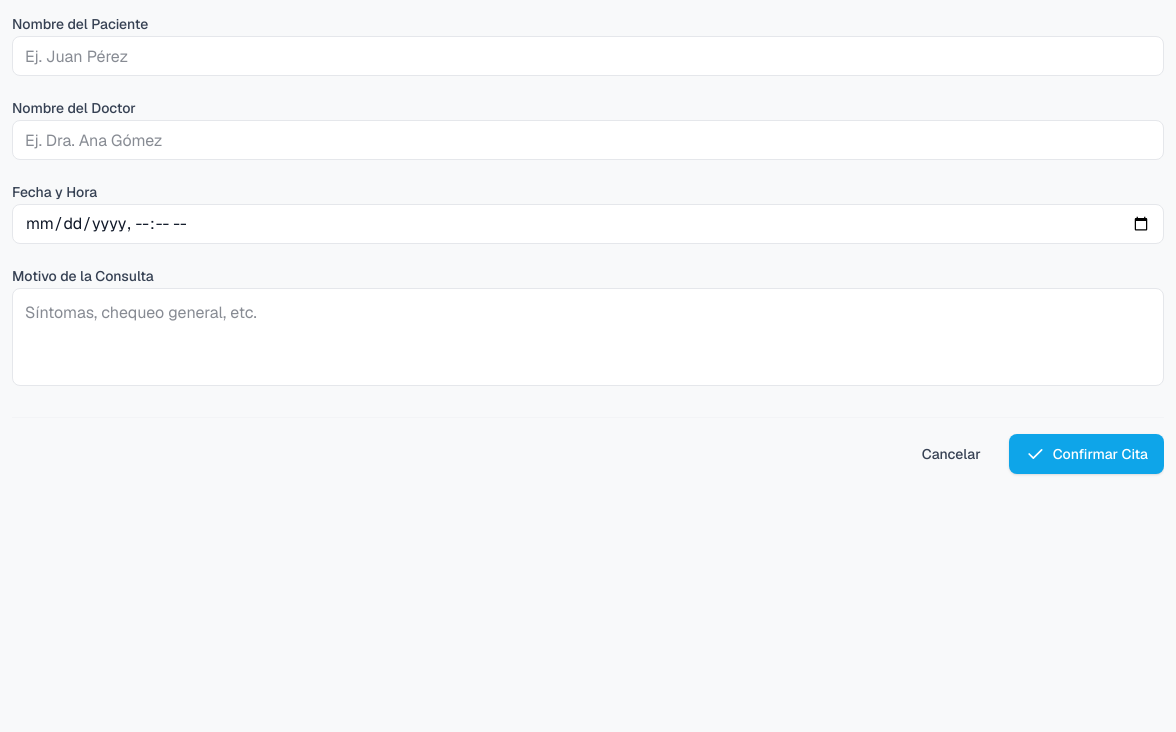
Scenario: CreateAppointmentForm › muestra errores por campo cuando backend responde validation error
This screenshot has width=1176, height=732.
Type "Paciente con error" into the field labelled "Nombre del Paciente" at (588,56), box [12,36,1164,76]
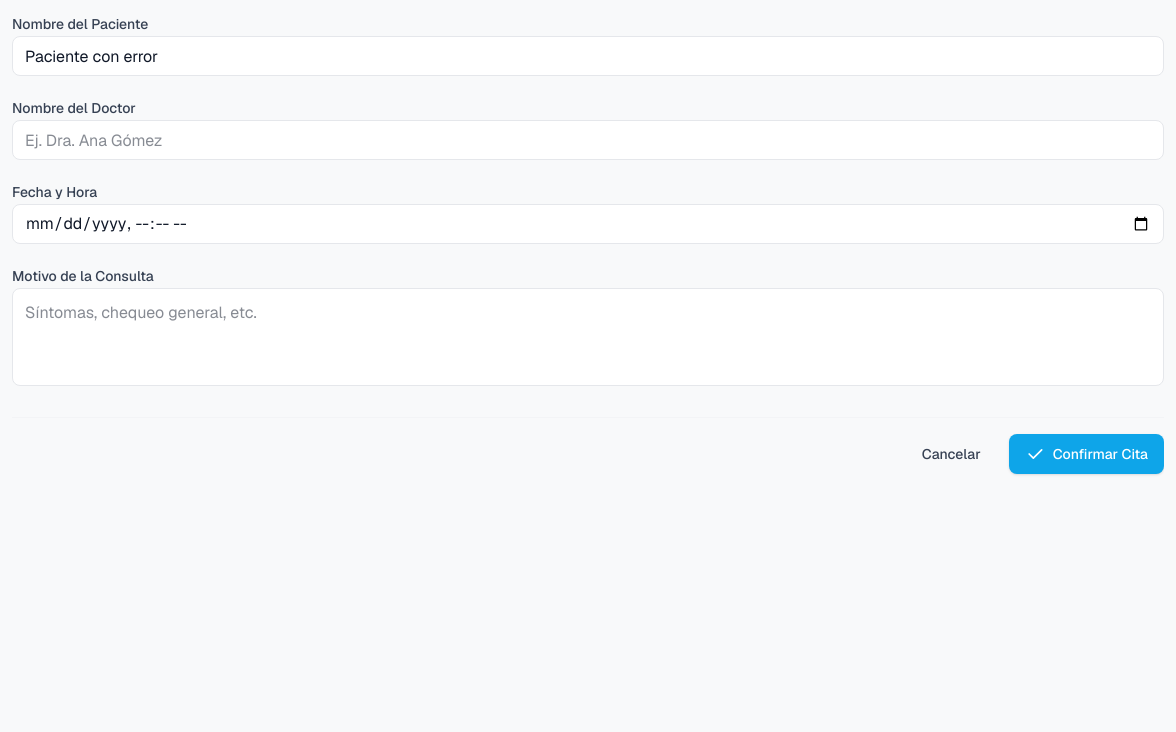
Type "Carlos Ruiz" into the field labelled "Nombre del Doctor" at (588,140), box [12,120,1164,160]
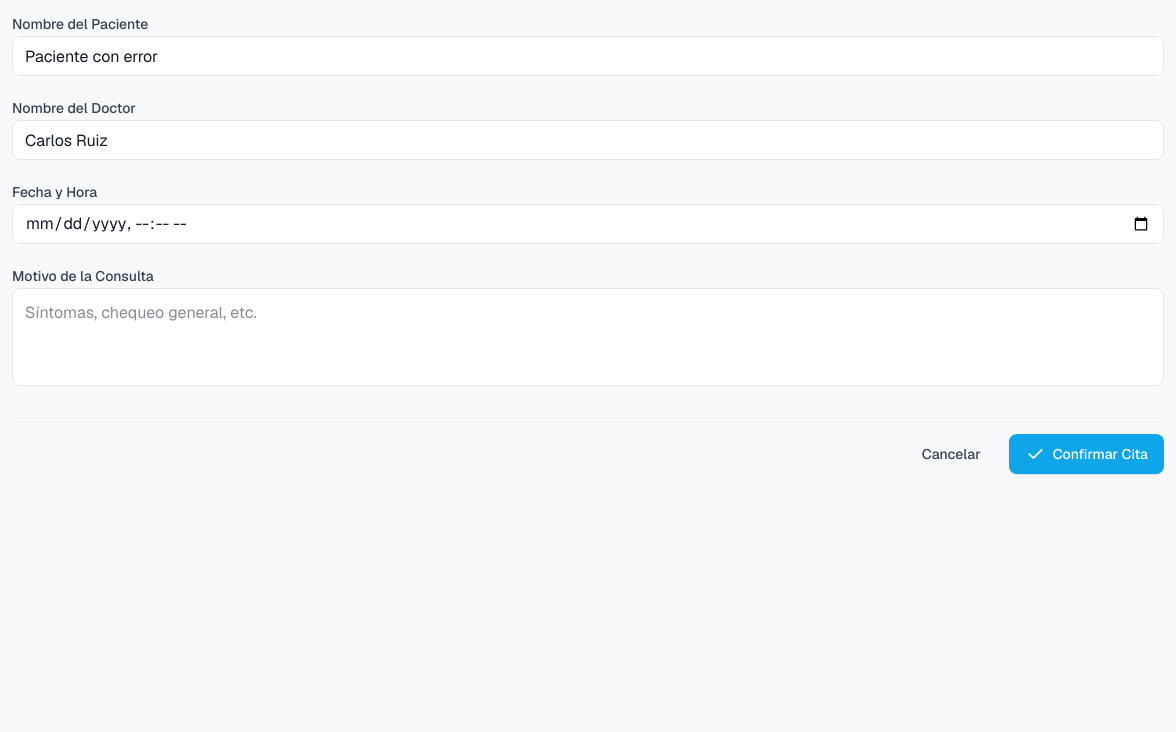
Type "2026-03-25T16:30" into the field labelled "Fecha y Hora" at (588,224), box [12,204,1164,244]
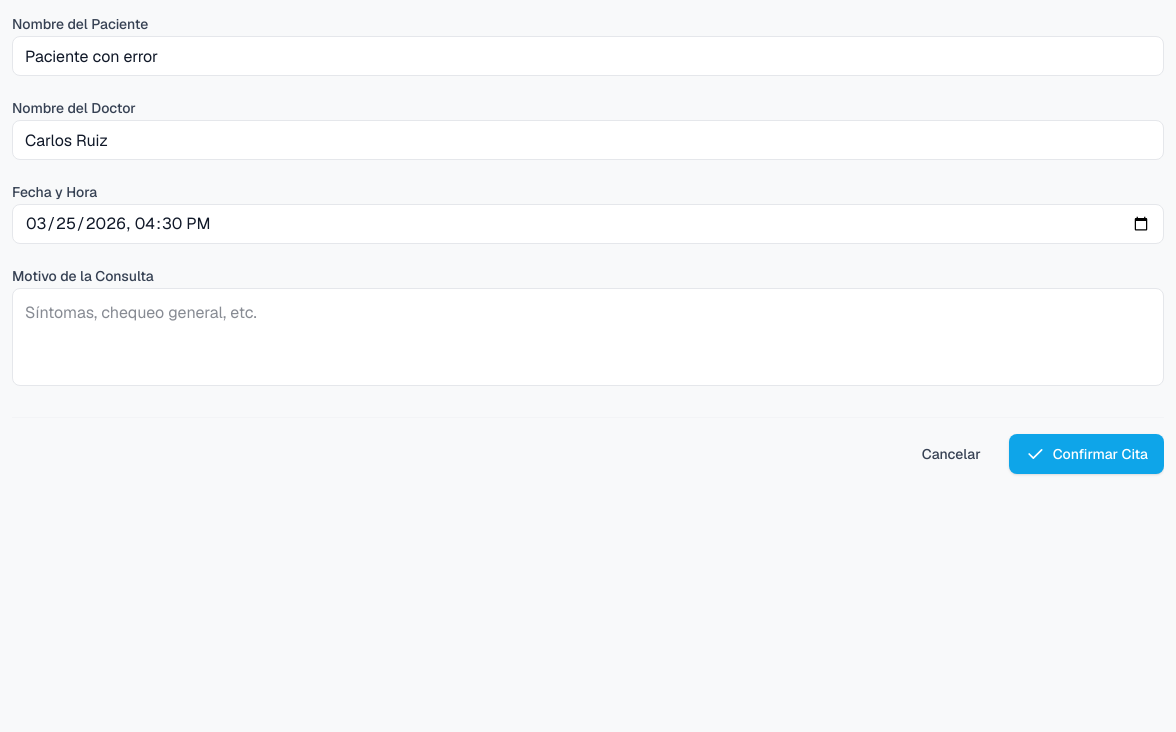
Type "Consulta" into the text box labelled "Motivo de la Consulta" at (588,337), box [12,288,1164,386]
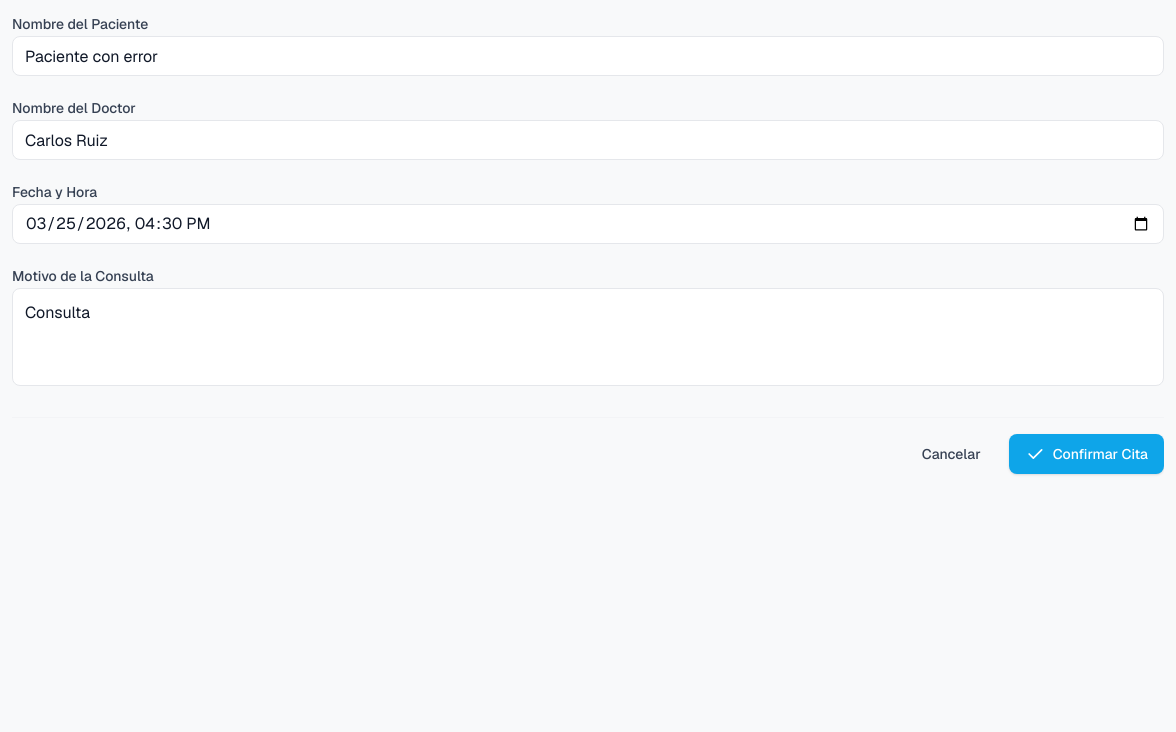
Click the button "Confirmar Cita" at (1086,454), box [1009,434,1164,474]
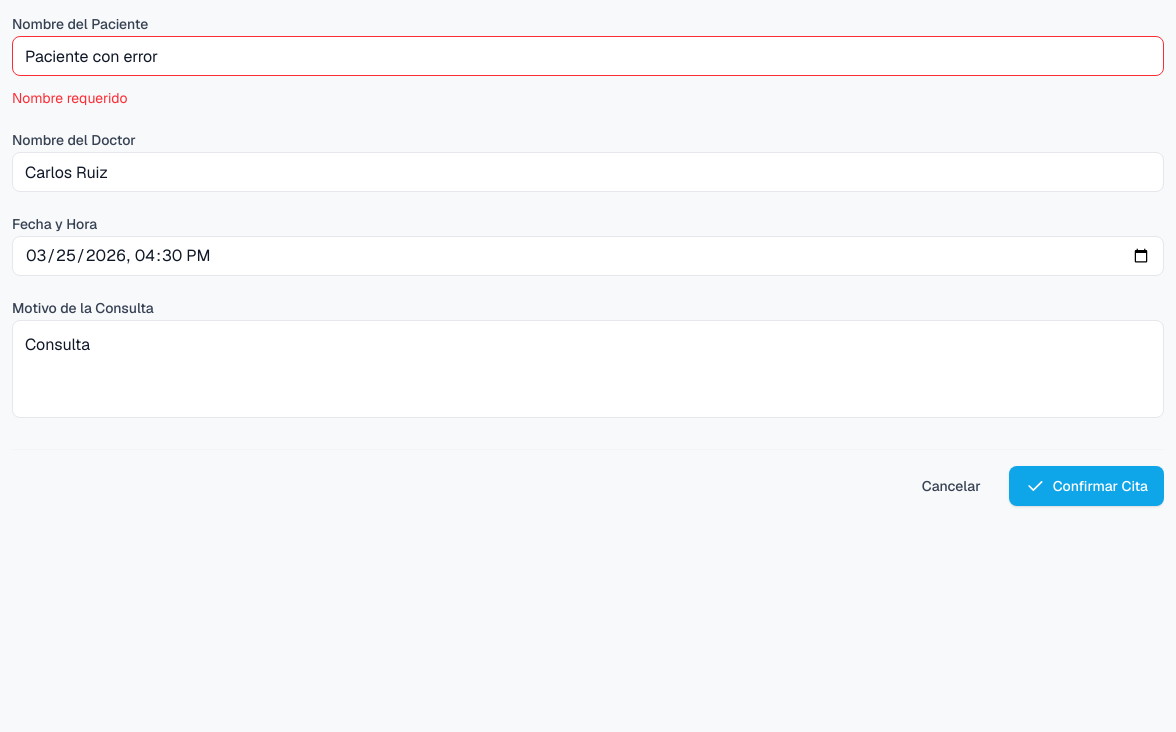
expect the text "Nombre requerido" is shown: met, box [12,89,127,107]
